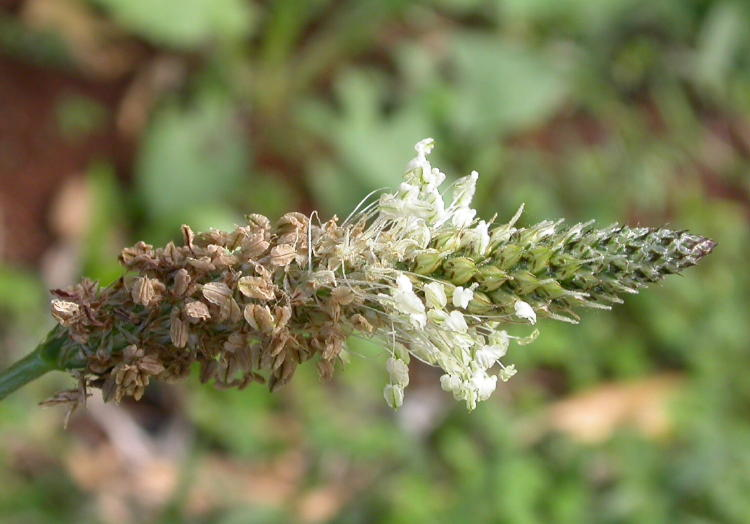buckhorn plantain: (45, 132, 722, 397)
